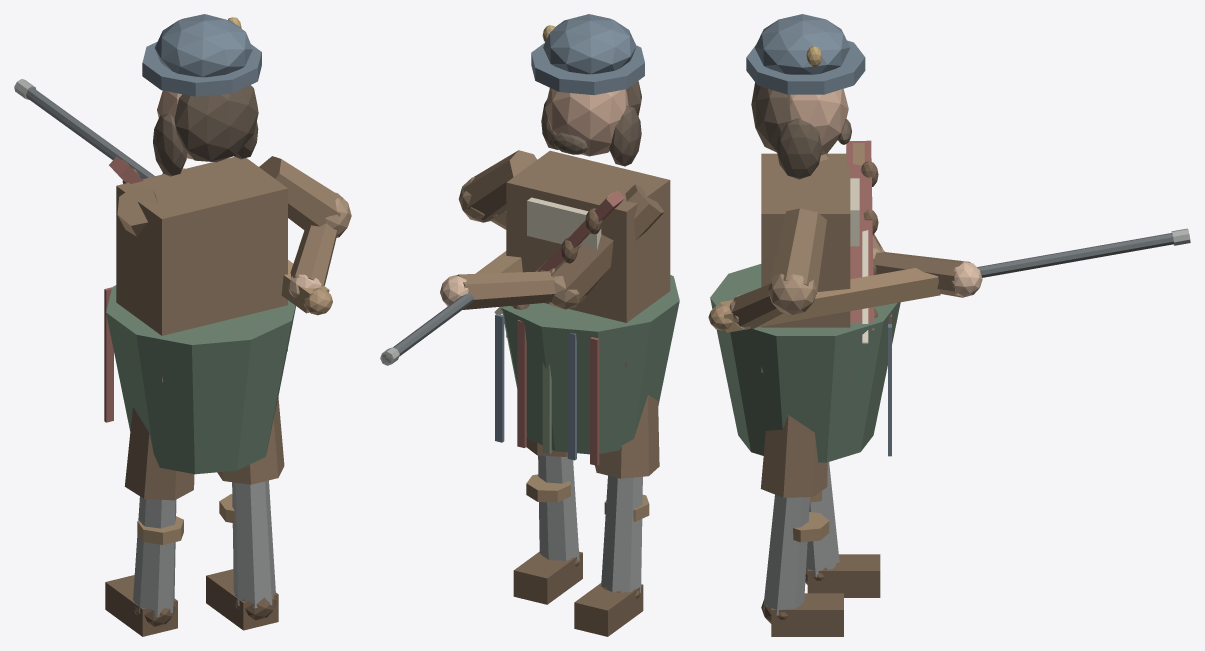
File: jacobite_highlander_musket_aiming.glb
3 views of the same model, side by side, from view 1: azimuth 30°, elevation 25°; view 2: azimuth 150°, elevation 25°; view 3: azimuth 270°, elevation 25° (orthographic). The views are drawn at different scales.
Parts seen in each view (by area): view 1: brown, tartan_g, grey, blue, hair, leather, iron, tartan_r, leather_lt, wood_lt, brown_lt, skin; view 2: brown, tartan_g, grey, blue, leather, skin, tartan_r, hair, tartan_b, linen, leather_lt, brown_lt (+4 smaller); view 3: tartan_g, brown, blue, leather, grey, wood_lt, hair, iron, skin, tartan_r, brown_lt, linen (+2 smaller).
Part boxes in pixels (x1=…): brown: x1=116, y1=156, x2=342, y2=500; tartan_g: x1=106, y1=285, x2=295, y2=474; grey: x1=133, y1=480, x2=275, y2=617; blue: x1=142, y1=14, x2=261, y2=96; hair: x1=153, y1=85, x2=258, y2=176; leather: x1=105, y1=168, x2=278, y2=636; iron: x1=26, y1=88, x2=154, y2=179; tartan_r: x1=104, y1=156, x2=143, y2=422; leather_lt: x1=122, y1=159, x2=234, y2=544; wood_lt: x1=281, y1=260, x2=332, y2=315; brown_lt: x1=325, y1=192, x2=351, y2=237; skin: x1=157, y1=90, x2=193, y2=159; brown: x1=457, y1=150, x2=670, y2=478; tartan_g: x1=502, y1=275, x2=679, y2=454; grey: x1=538, y1=455, x2=642, y2=592; blue: x1=531, y1=14, x2=644, y2=95; leather: x1=513, y1=208, x2=643, y2=636; skin: x1=545, y1=88, x2=628, y2=156; tartan_r: x1=501, y1=190, x2=624, y2=465; hair: x1=541, y1=81, x2=641, y2=166; tartan_b: x1=495, y1=314, x2=576, y2=460; linen: x1=494, y1=197, x2=601, y2=314; leather_lt: x1=526, y1=193, x2=649, y2=521; brown_lt: x1=458, y1=177, x2=585, y2=309; tartan_g: x1=710, y1=264, x2=900, y2=462; brown: x1=731, y1=153, x2=970, y2=497; blue: x1=746, y1=14, x2=865, y2=94; leather: x1=761, y1=161, x2=880, y2=636; grey: x1=763, y1=462, x2=839, y2=615; wood_lt: x1=708, y1=268, x2=940, y2=332; hair: x1=751, y1=82, x2=851, y2=179; iron: x1=977, y1=233, x2=1173, y2=277; skin: x1=789, y1=89, x2=848, y2=155; tartan_r: x1=846, y1=140, x2=891, y2=330; brown_lt: x1=768, y1=246, x2=884, y2=314; linen: x1=850, y1=178, x2=868, y2=343.
Bounding box in the file's own units: 0.6682 × 1.75 × 1.3.
